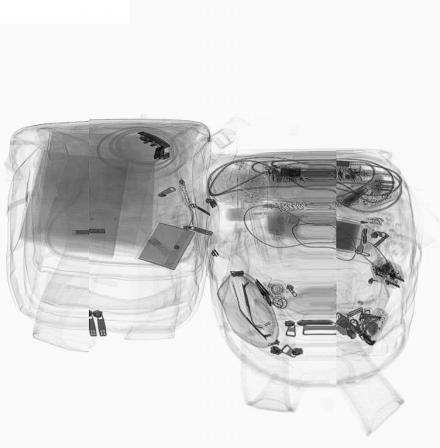Lighter: (342, 214, 385, 227)
